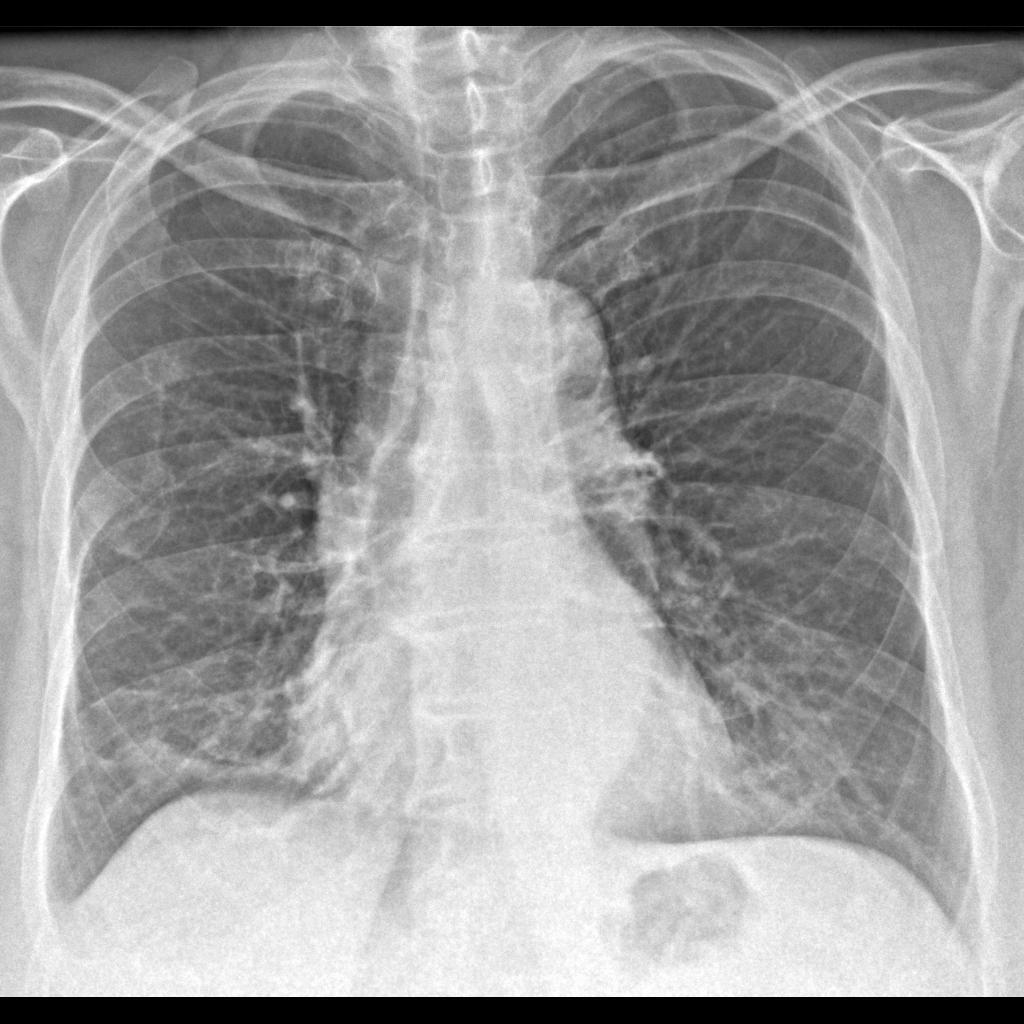Nodule: (106, 721, 183, 794)
